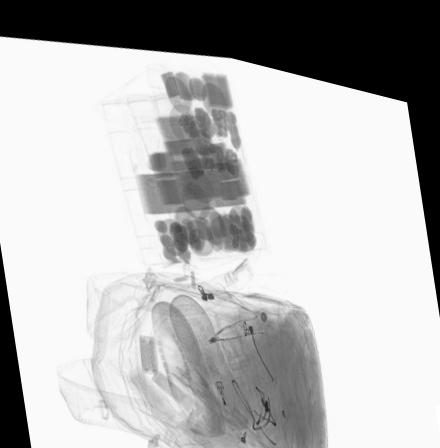Lighter: (213, 368, 239, 420)
